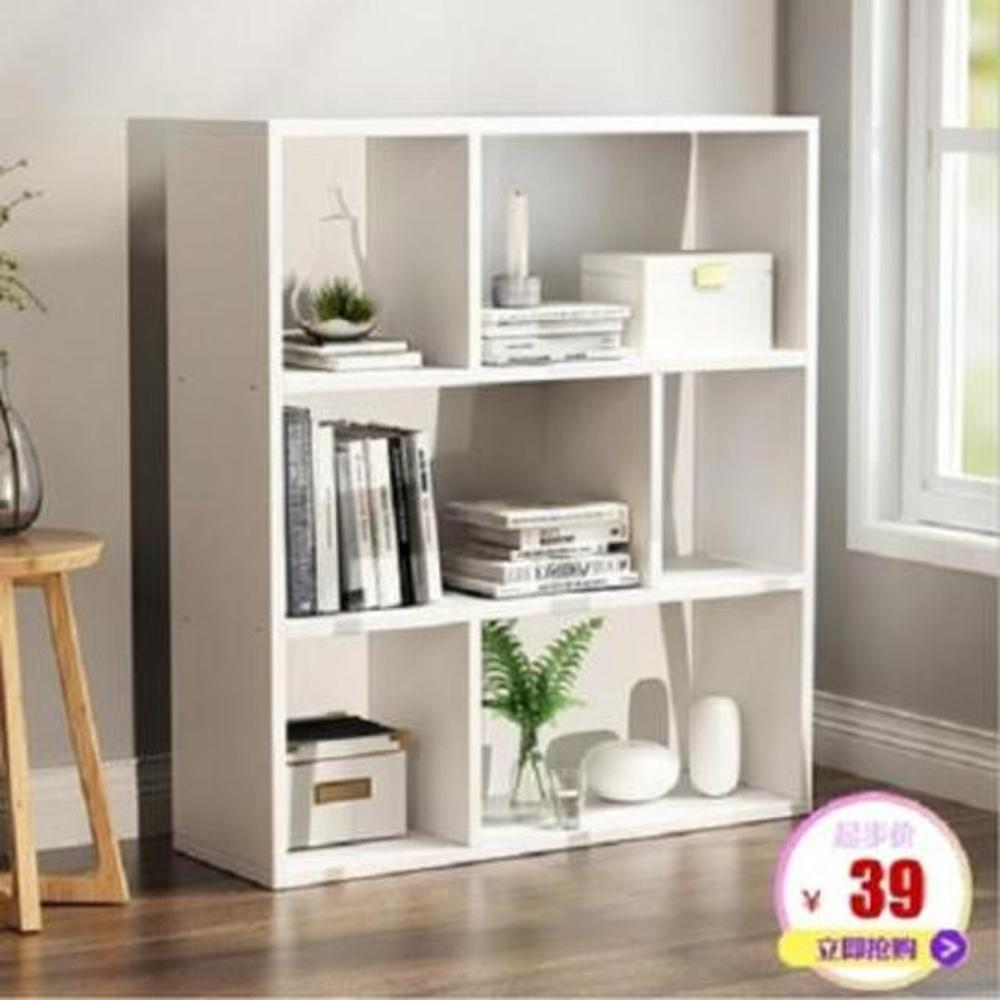lamp: (163, 113, 822, 892)
